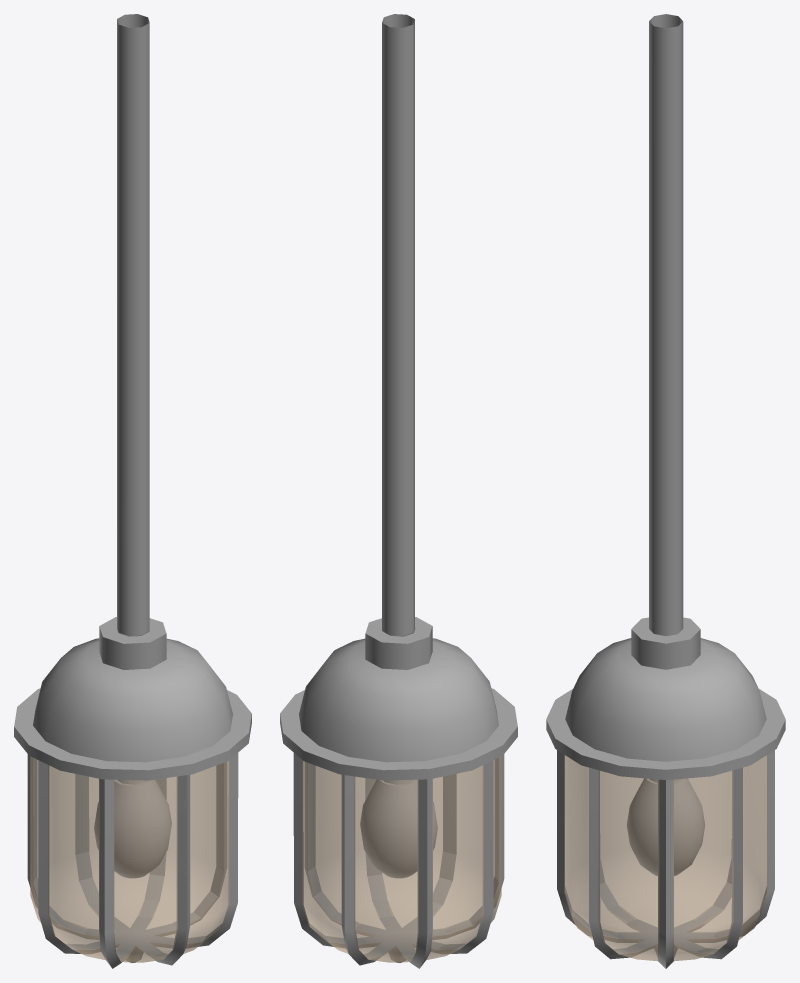
The model's file is LampMain.fbx.
3 views of the same model, side by side, from view 1: azimuth 30°, elevation 25°; view 2: azimuth 150°, elevation 25°; view 3: azimuth 270°, elevation 25° (orthographic).
Parts seen in each view (by area): view 1: pCube84_polySurface96, polySurface135, polySurface114, polySurface136; view 2: pCube84_polySurface96, polySurface135, polySurface114, polySurface136; view 3: pCube84_polySurface96, polySurface135, polySurface114, polySurface136.
Boxes of the visible parts, left/top/right/bottom form: pCube84_polySurface96: left=14, top=617, right=251, bottom=968; polySurface135: left=30, top=756, right=229, bottom=962; polySurface114: left=117, top=14, right=149, bottom=635; polySurface136: left=94, top=779, right=171, bottom=878; pCube84_polySurface96: left=280, top=617, right=517, bottom=968; polySurface135: left=302, top=756, right=501, bottom=962; polySurface114: left=382, top=14, right=414, bottom=635; polySurface136: left=360, top=779, right=437, bottom=878; pCube84_polySurface96: left=546, top=617, right=785, bottom=968; polySurface135: left=564, top=755, right=767, bottom=961; polySurface114: left=649, top=14, right=683, bottom=635; polySurface136: left=627, top=778, right=705, bottom=875.
Bounding box in the file's own units: 19.85 × 85.87 × 19.85.
